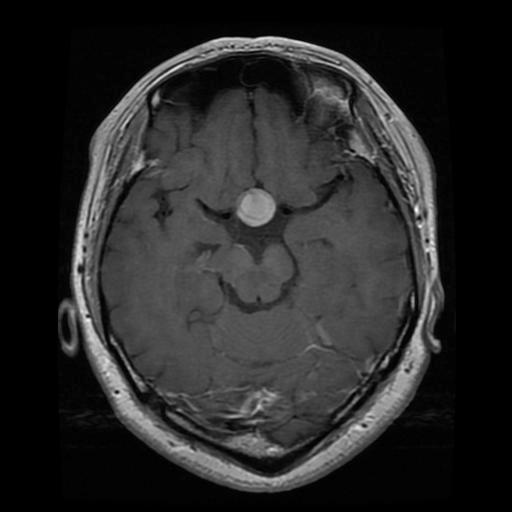Tumour-Pituitary: (232, 190, 276, 229)
